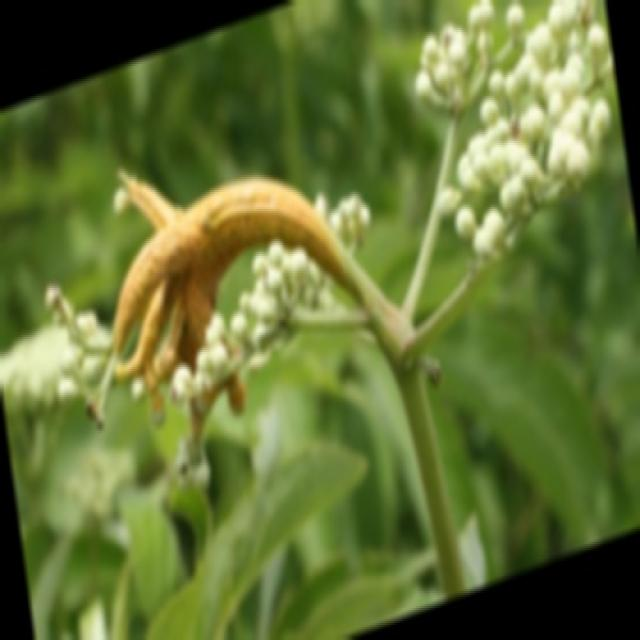Elderberry_rust: (108, 164, 376, 427)
